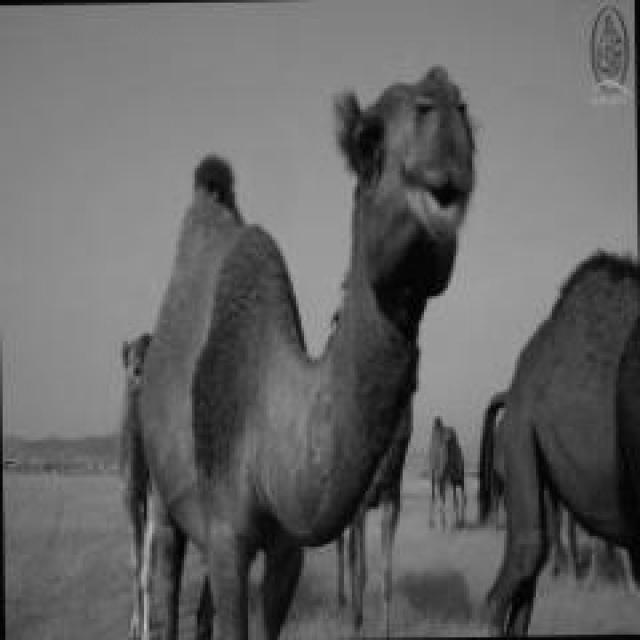Camel: (117, 62, 475, 638), (478, 248, 638, 637)
